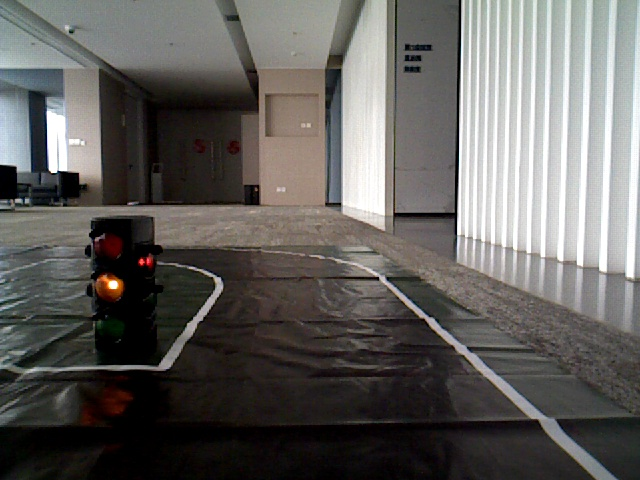yellow: (88, 218, 141, 350)
